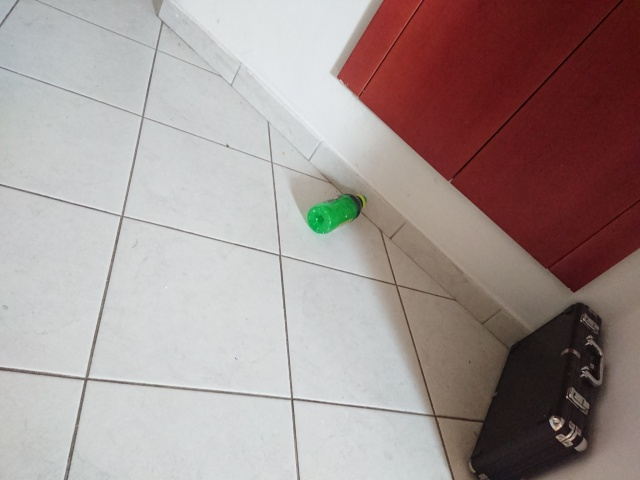Vindi Iso Sport Lemon-Grapefruit 500mL: (305, 190, 370, 236)
